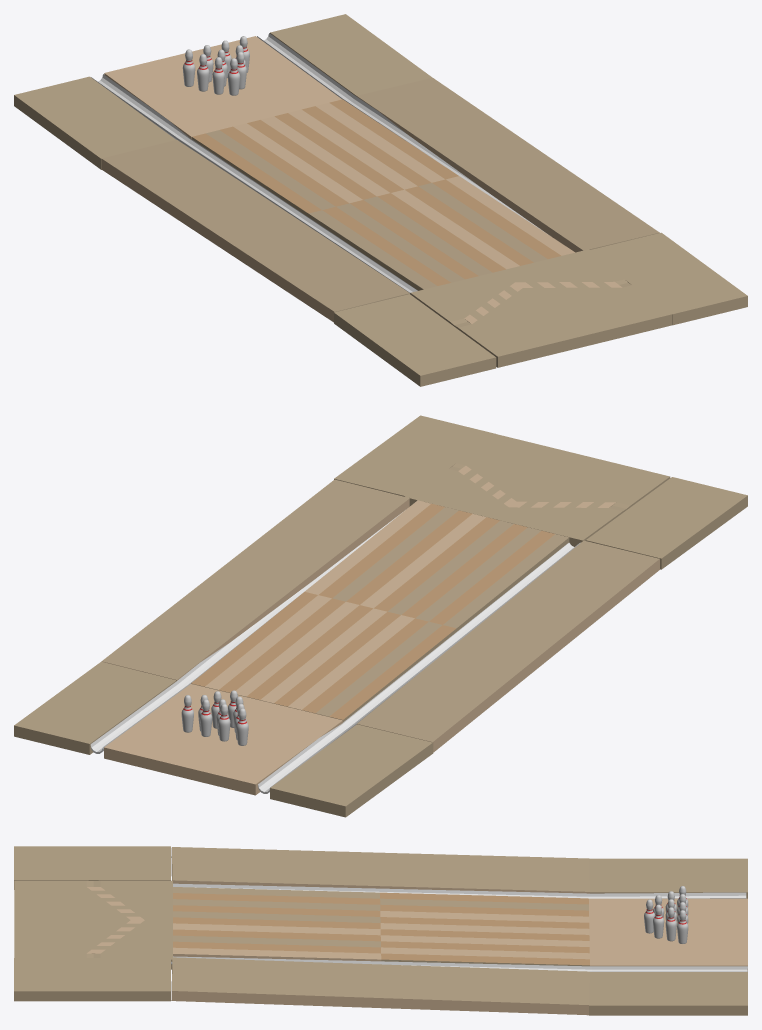
Rendered from bowling_simple_alley.fbx.
3 renders of one model, top to bottom at view 1: azimuth 30°, elevation 25°; view 2: azimuth 150°, elevation 25°; view 3: azimuth 270°, elevation 25°, orthographic. The views are drawn at different scales.
Parts seen in each view (by area): view 1: Cube.008, Cube.002, Cube.003, Cube.004, Cylinder.011; view 2: Cube.008, Cube.002, Cube.003, Cube.004, Cylinder.011; view 3: Cube.008, Cube.002, Cube.003, Cube.004, Cylinder.011, Cylinder.006, Cylinder.005, Cylinder.002.
Boxes of the visible parts, left/top/right/bottom form: Cube.008: left=14, top=14, right=747, bottom=386; Cube.002: left=192, top=99, right=574, bottom=290; Cube.003: left=410, top=249, right=671, bottom=367; Cube.004: left=104, top=36, right=341, bottom=139; Cylinder.011: left=91, top=33, right=546, bottom=293; Cube.008: left=14, top=415, right=747, bottom=817; Cube.002: left=191, top=500, right=569, bottom=722; Cube.003: left=405, top=434, right=670, bottom=546; Cube.004: left=104, top=684, right=342, bottom=795; Cylinder.011: left=90, top=512, right=580, bottom=793; Cube.008: left=14, top=846, right=747, bottom=1015; Cube.002: left=173, top=887, right=589, bottom=966; Cube.003: left=14, top=880, right=172, bottom=969; Cube.004: left=589, top=898, right=747, bottom=971; Cylinder.011: left=171, top=883, right=747, bottom=971; Cylinder.006: left=677, top=910, right=688, bottom=943; Cylinder.005: left=665, top=907, right=676, bottom=941; Cylinder.002: left=653, top=904, right=664, bottom=938.
Size of the model in its own units: 5467 by 765 by 11542.
